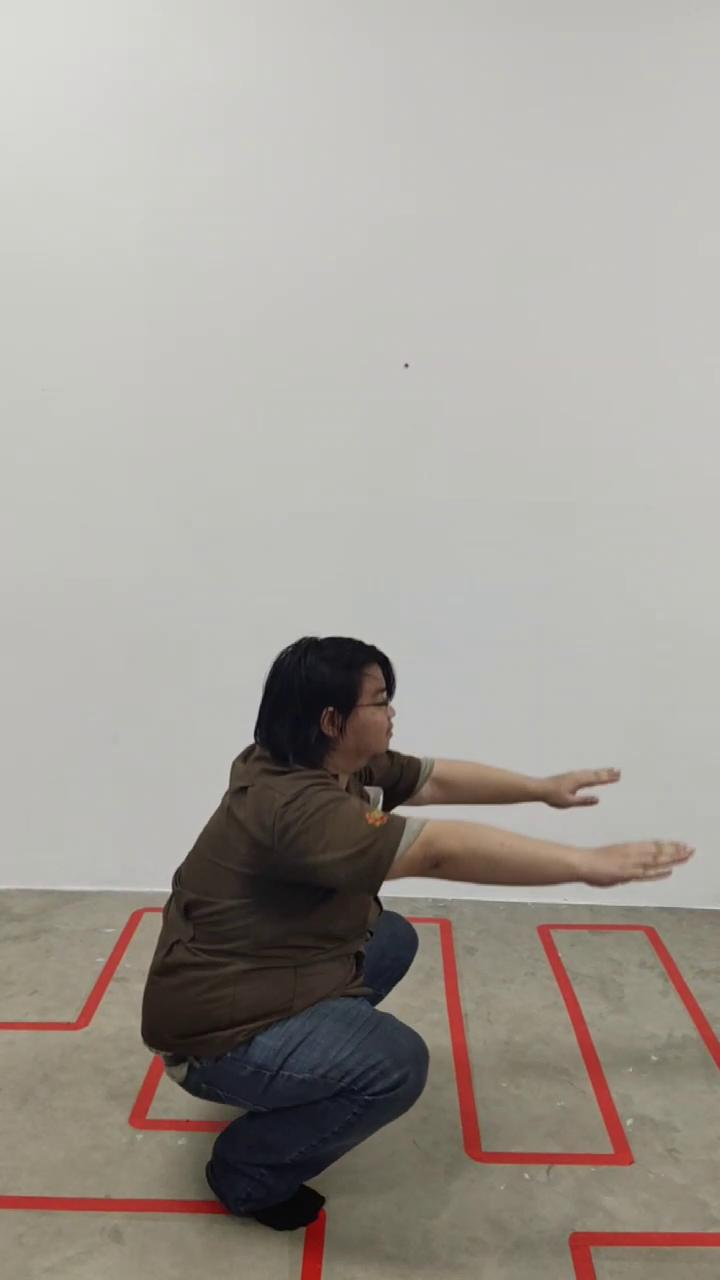squat down: (141, 635, 688, 1234)
